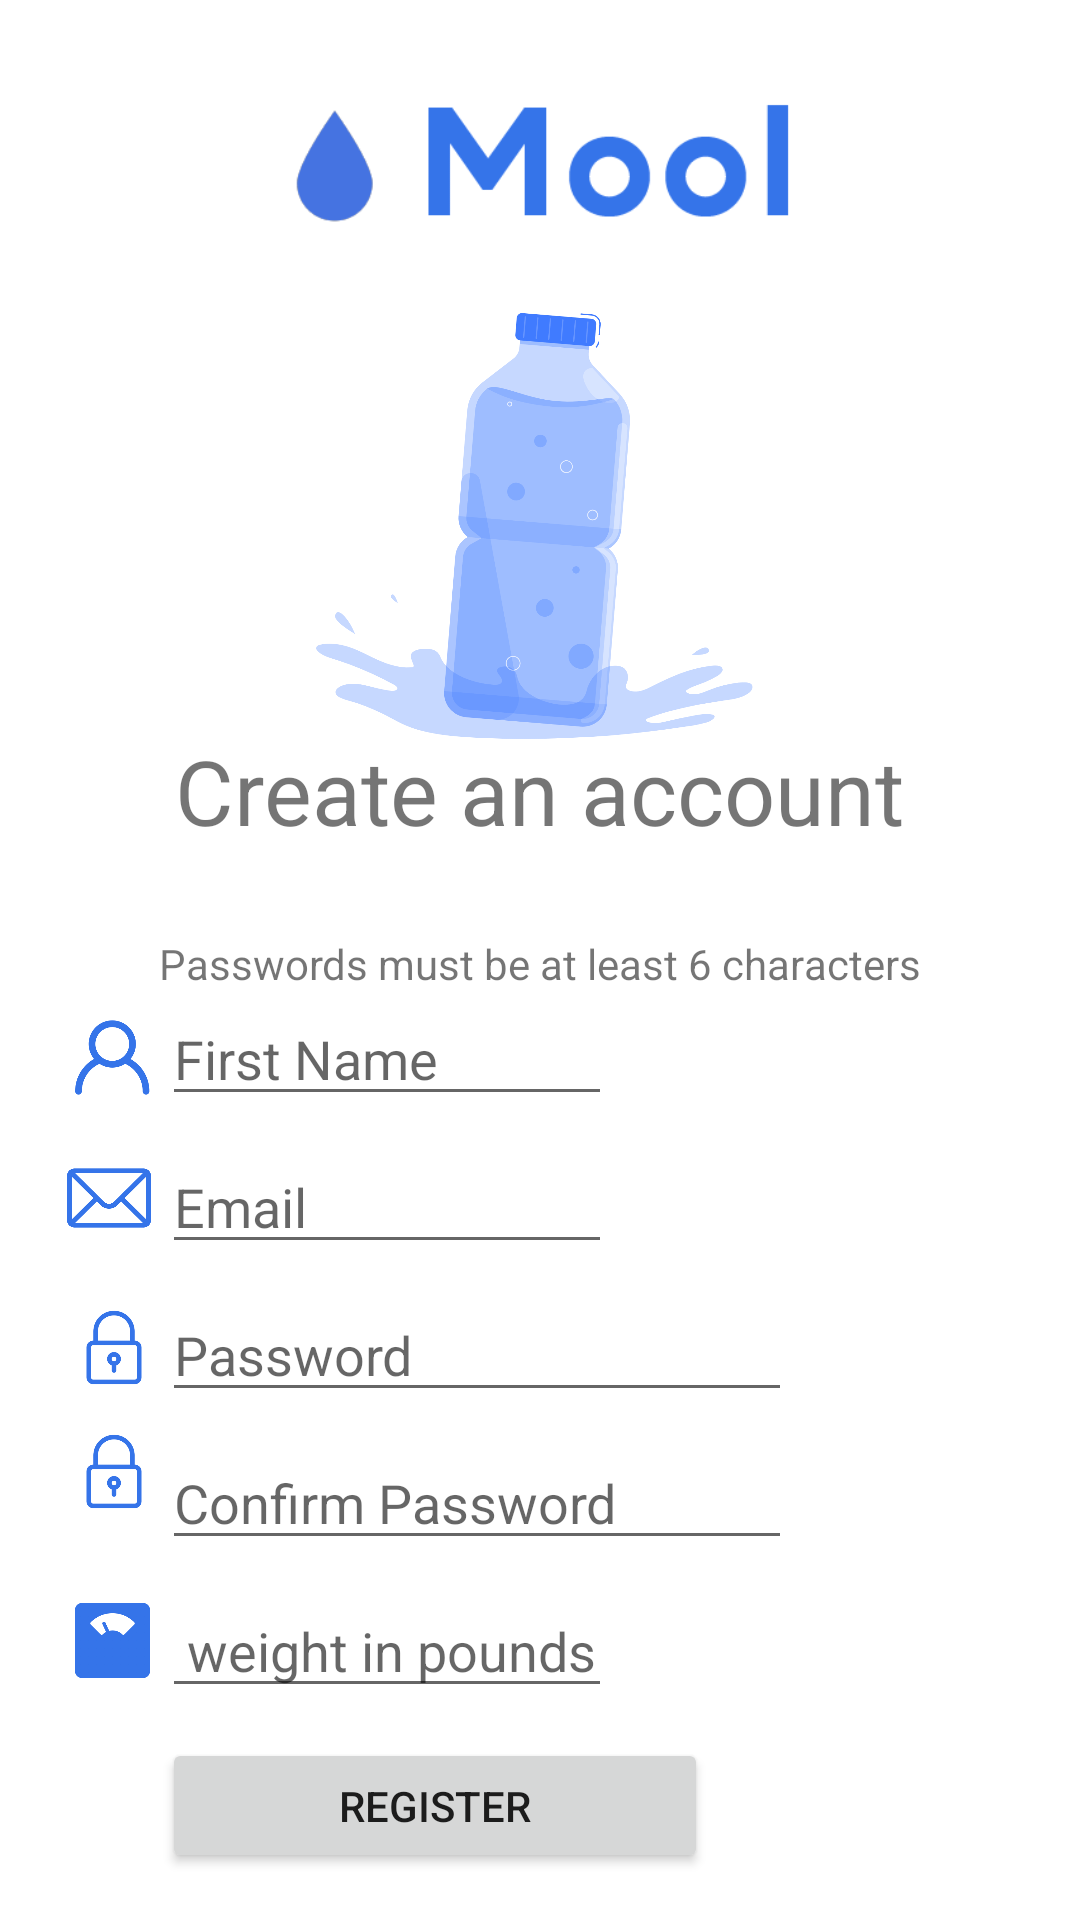

Screen size 1080x1920. Icon name, then its box in pixels as bbox(x1, y1, x2, y2):
account: bbox(75, 1020, 150, 1095)
padlock: bbox(86, 1311, 142, 1384), bbox(86, 1435, 142, 1508)
